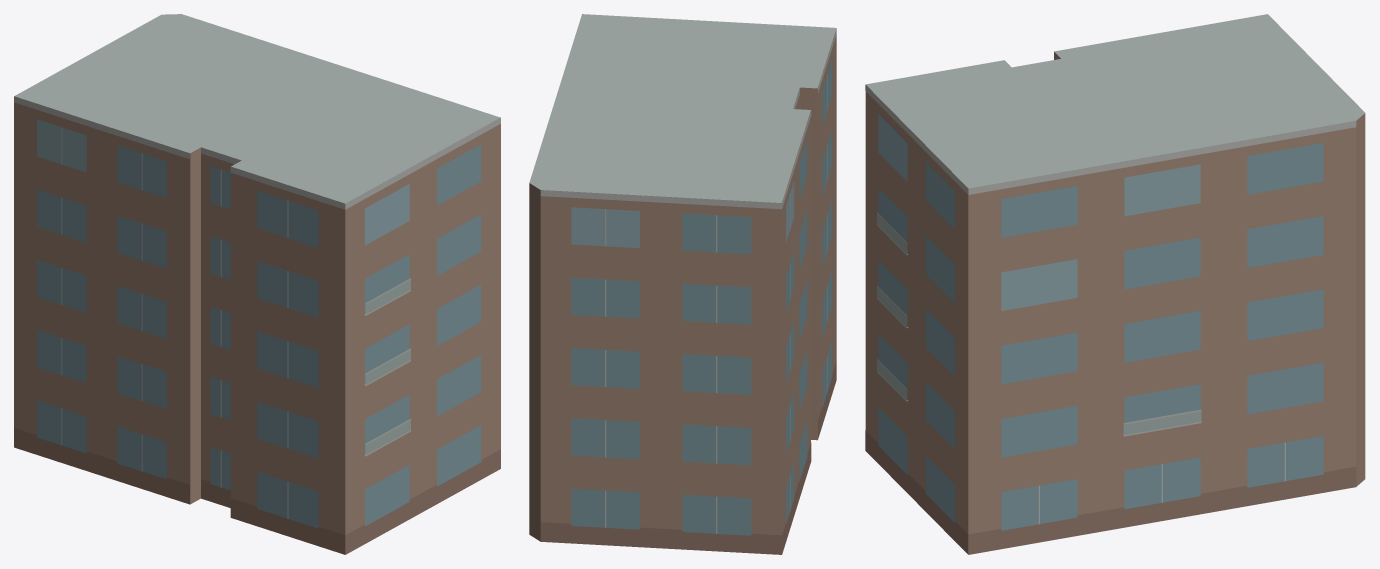
File: survey-upis-32749826.glb
The picture shows the model from 3 angles, left to right: view 1: azimuth 30°, elevation 25°; view 2: azimuth 150°, elevation 25°; view 3: azimuth 270°, elevation 25°; orthographic projection. The views are drawn at different scales.
Parts seen in each view (by area): view 1: survey-upis-32749826.tmp; view 2: survey-upis-32749826.tmp; view 3: survey-upis-32749826.tmp.
Boxes of the visible parts, x1,y1,x2,y2 form: survey-upis-32749826.tmp: (14, 14, 500, 554); survey-upis-32749826.tmp: (529, 14, 836, 554); survey-upis-32749826.tmp: (865, 14, 1365, 554).
Size of the model in its own units: 14.33 by 14 by 17.33.
